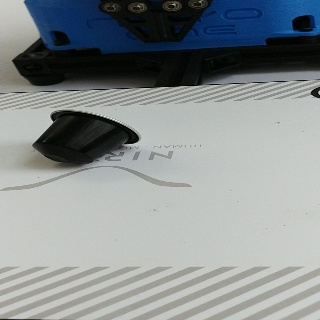capsule_10: (31, 108, 143, 165)
